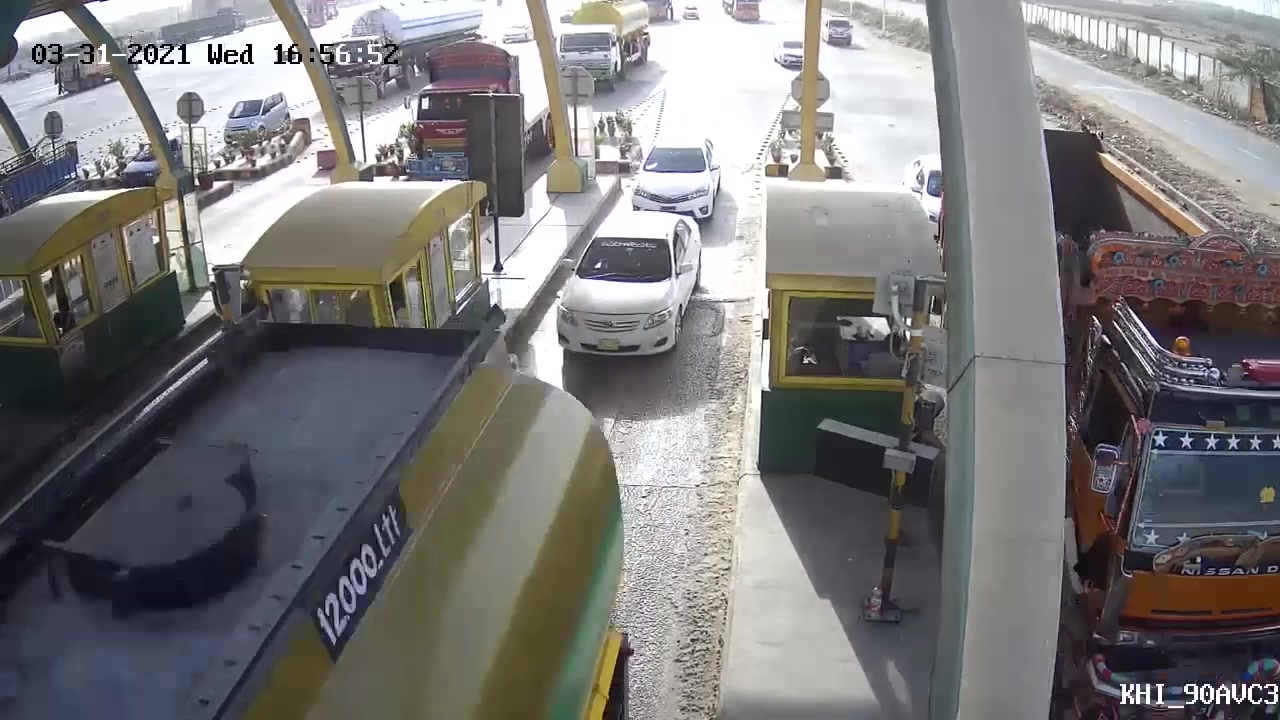F1: (544, 208, 698, 370)
